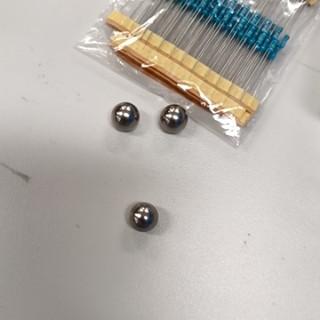ironball: (114, 185, 171, 238), (98, 90, 144, 146), (151, 89, 188, 150)
